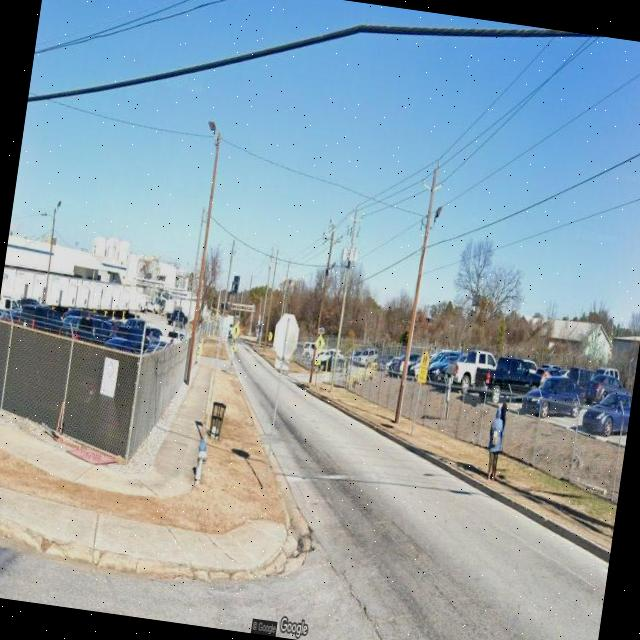trash_can: (208, 401, 226, 442)
